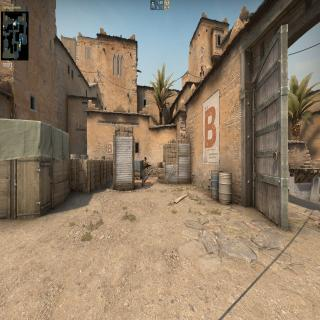T-Head: (144, 156, 147, 162)
